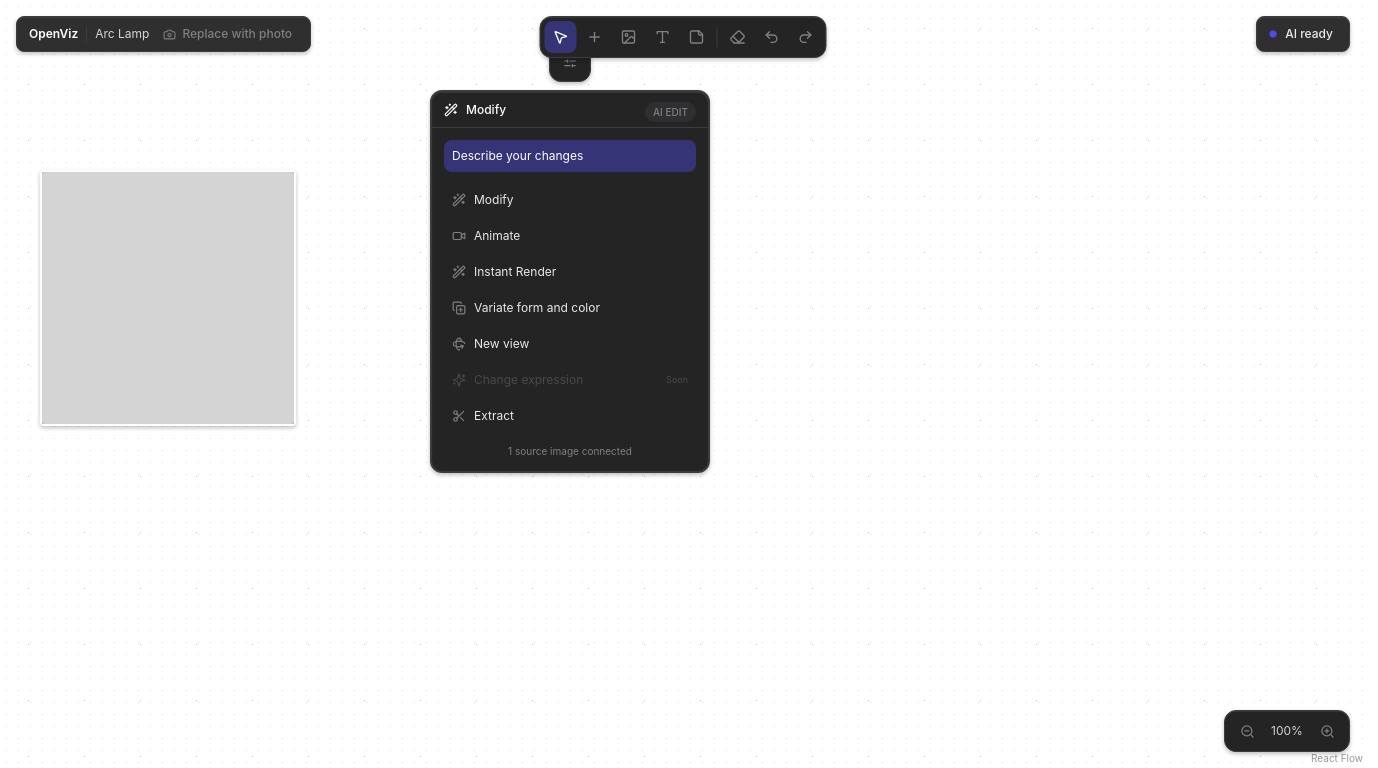
Test case: GenerationNodeMockup › reveals a plain-language mode description from the info control
This screenshot has width=1378, height=768.
Click the button "Extract" at (570, 416), box [444,400,696,432]
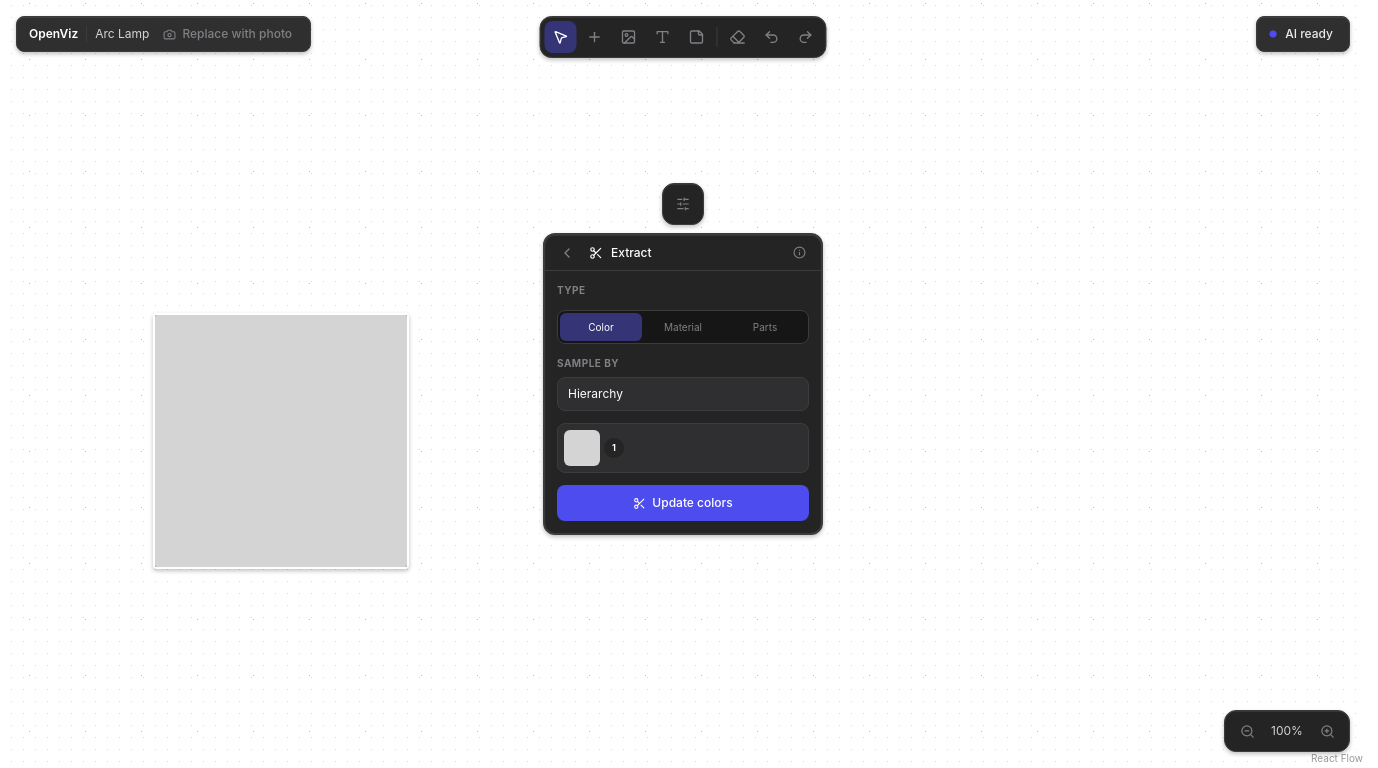
Check: the heading "Extract" is shown, box [611,244,652,260]
Click the button named "About Extract" at (799, 252), box [785,238,813,266]
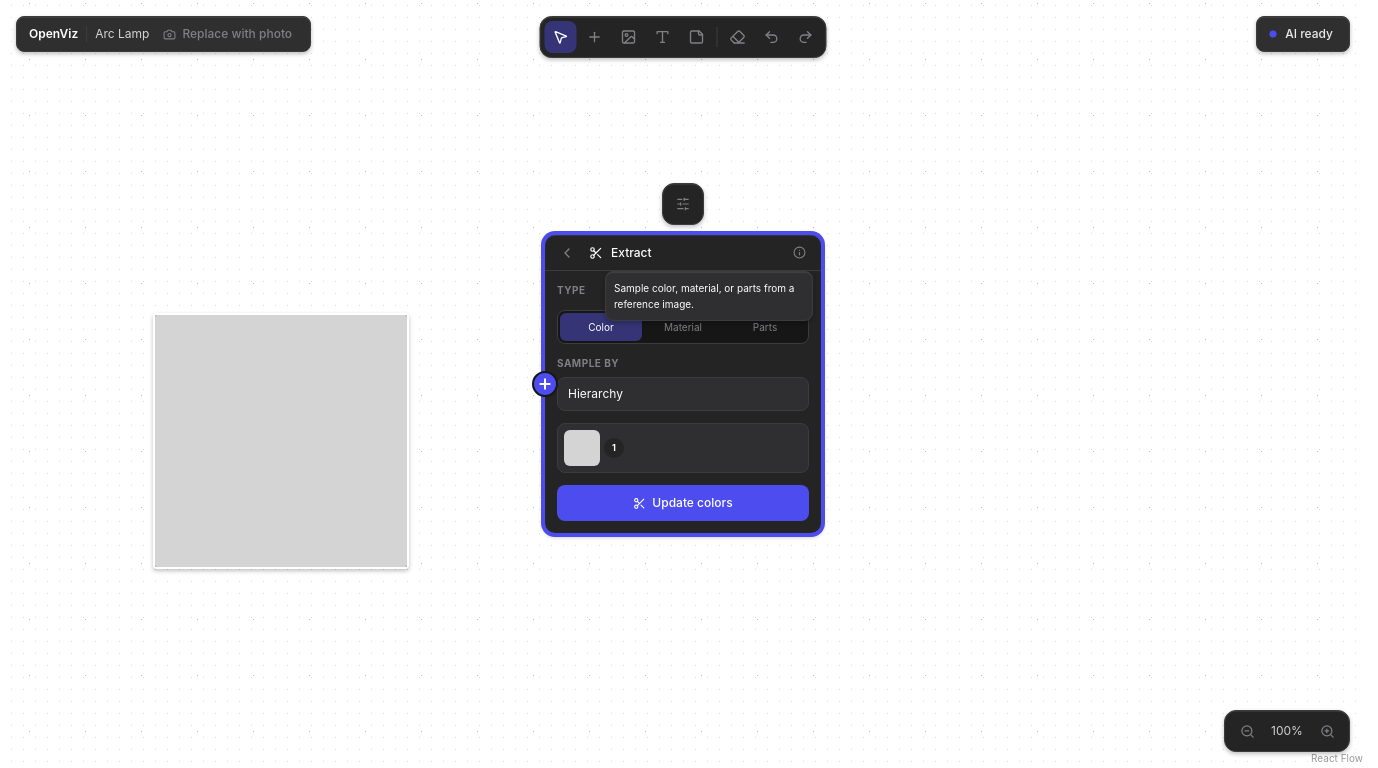
Check: the tooltip reads "Sample color, material, or parts from a reference image.", box [614,282,794,310]
